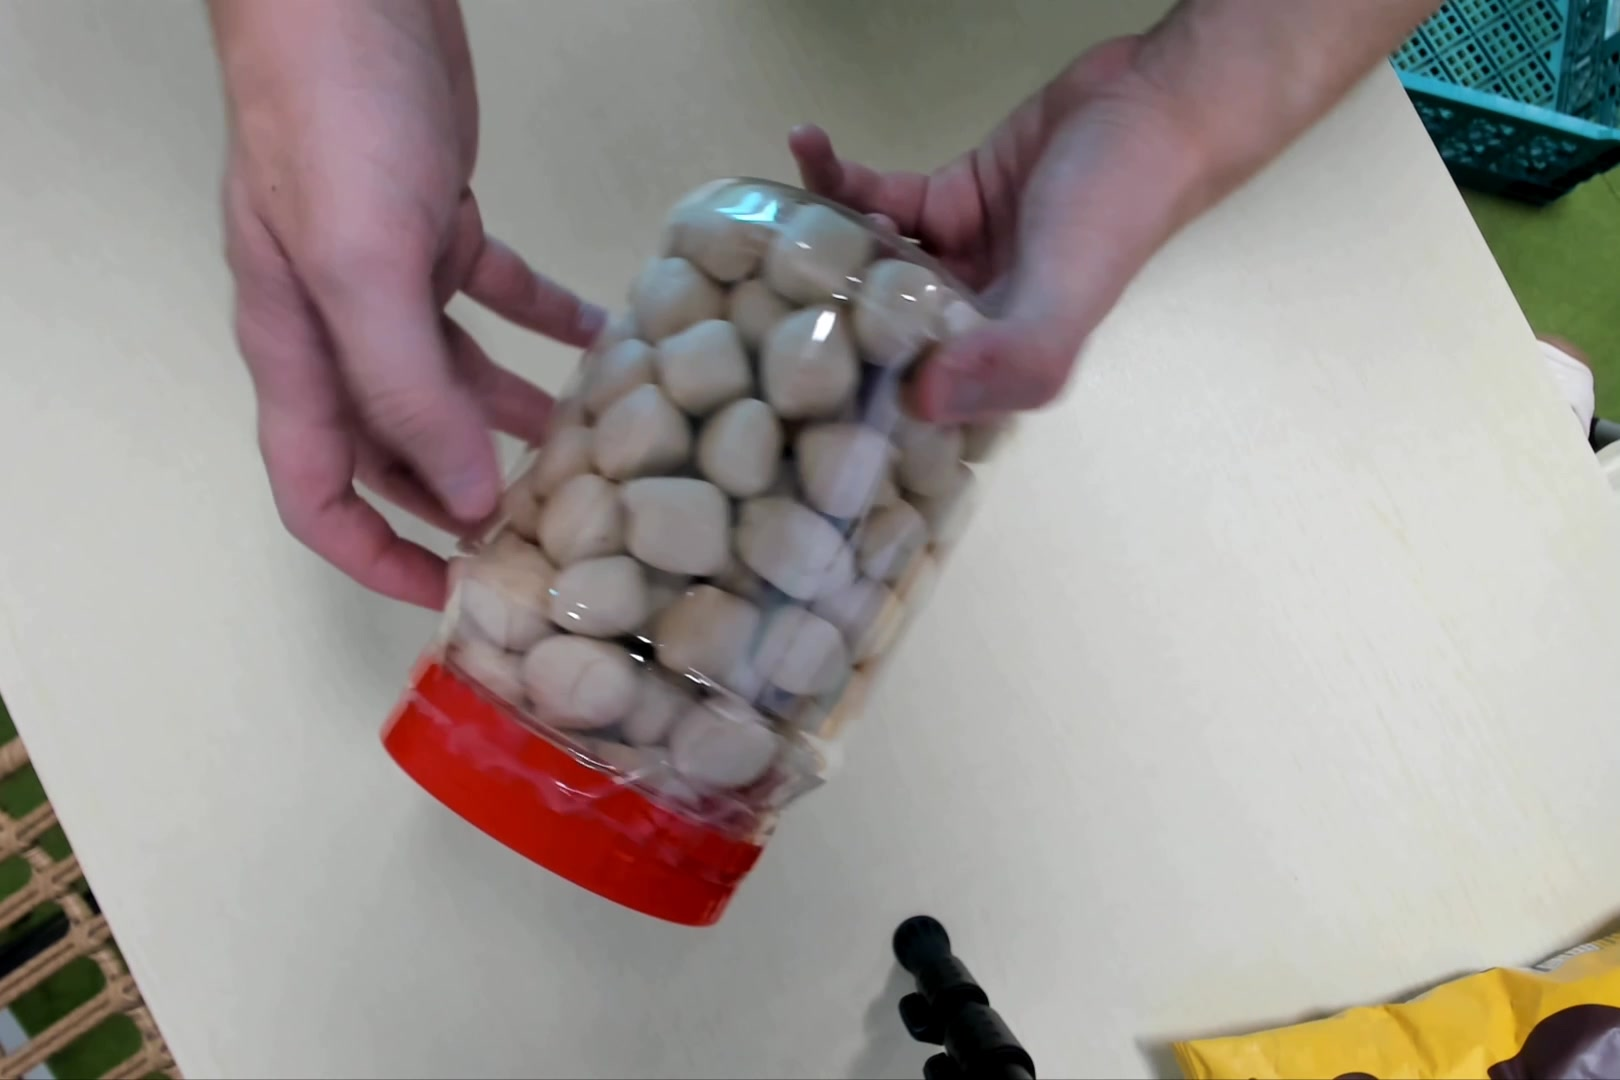PotatoChipsKeropok_100-199g_NonHalal_NonHealthy: (385, 187, 1027, 947)
